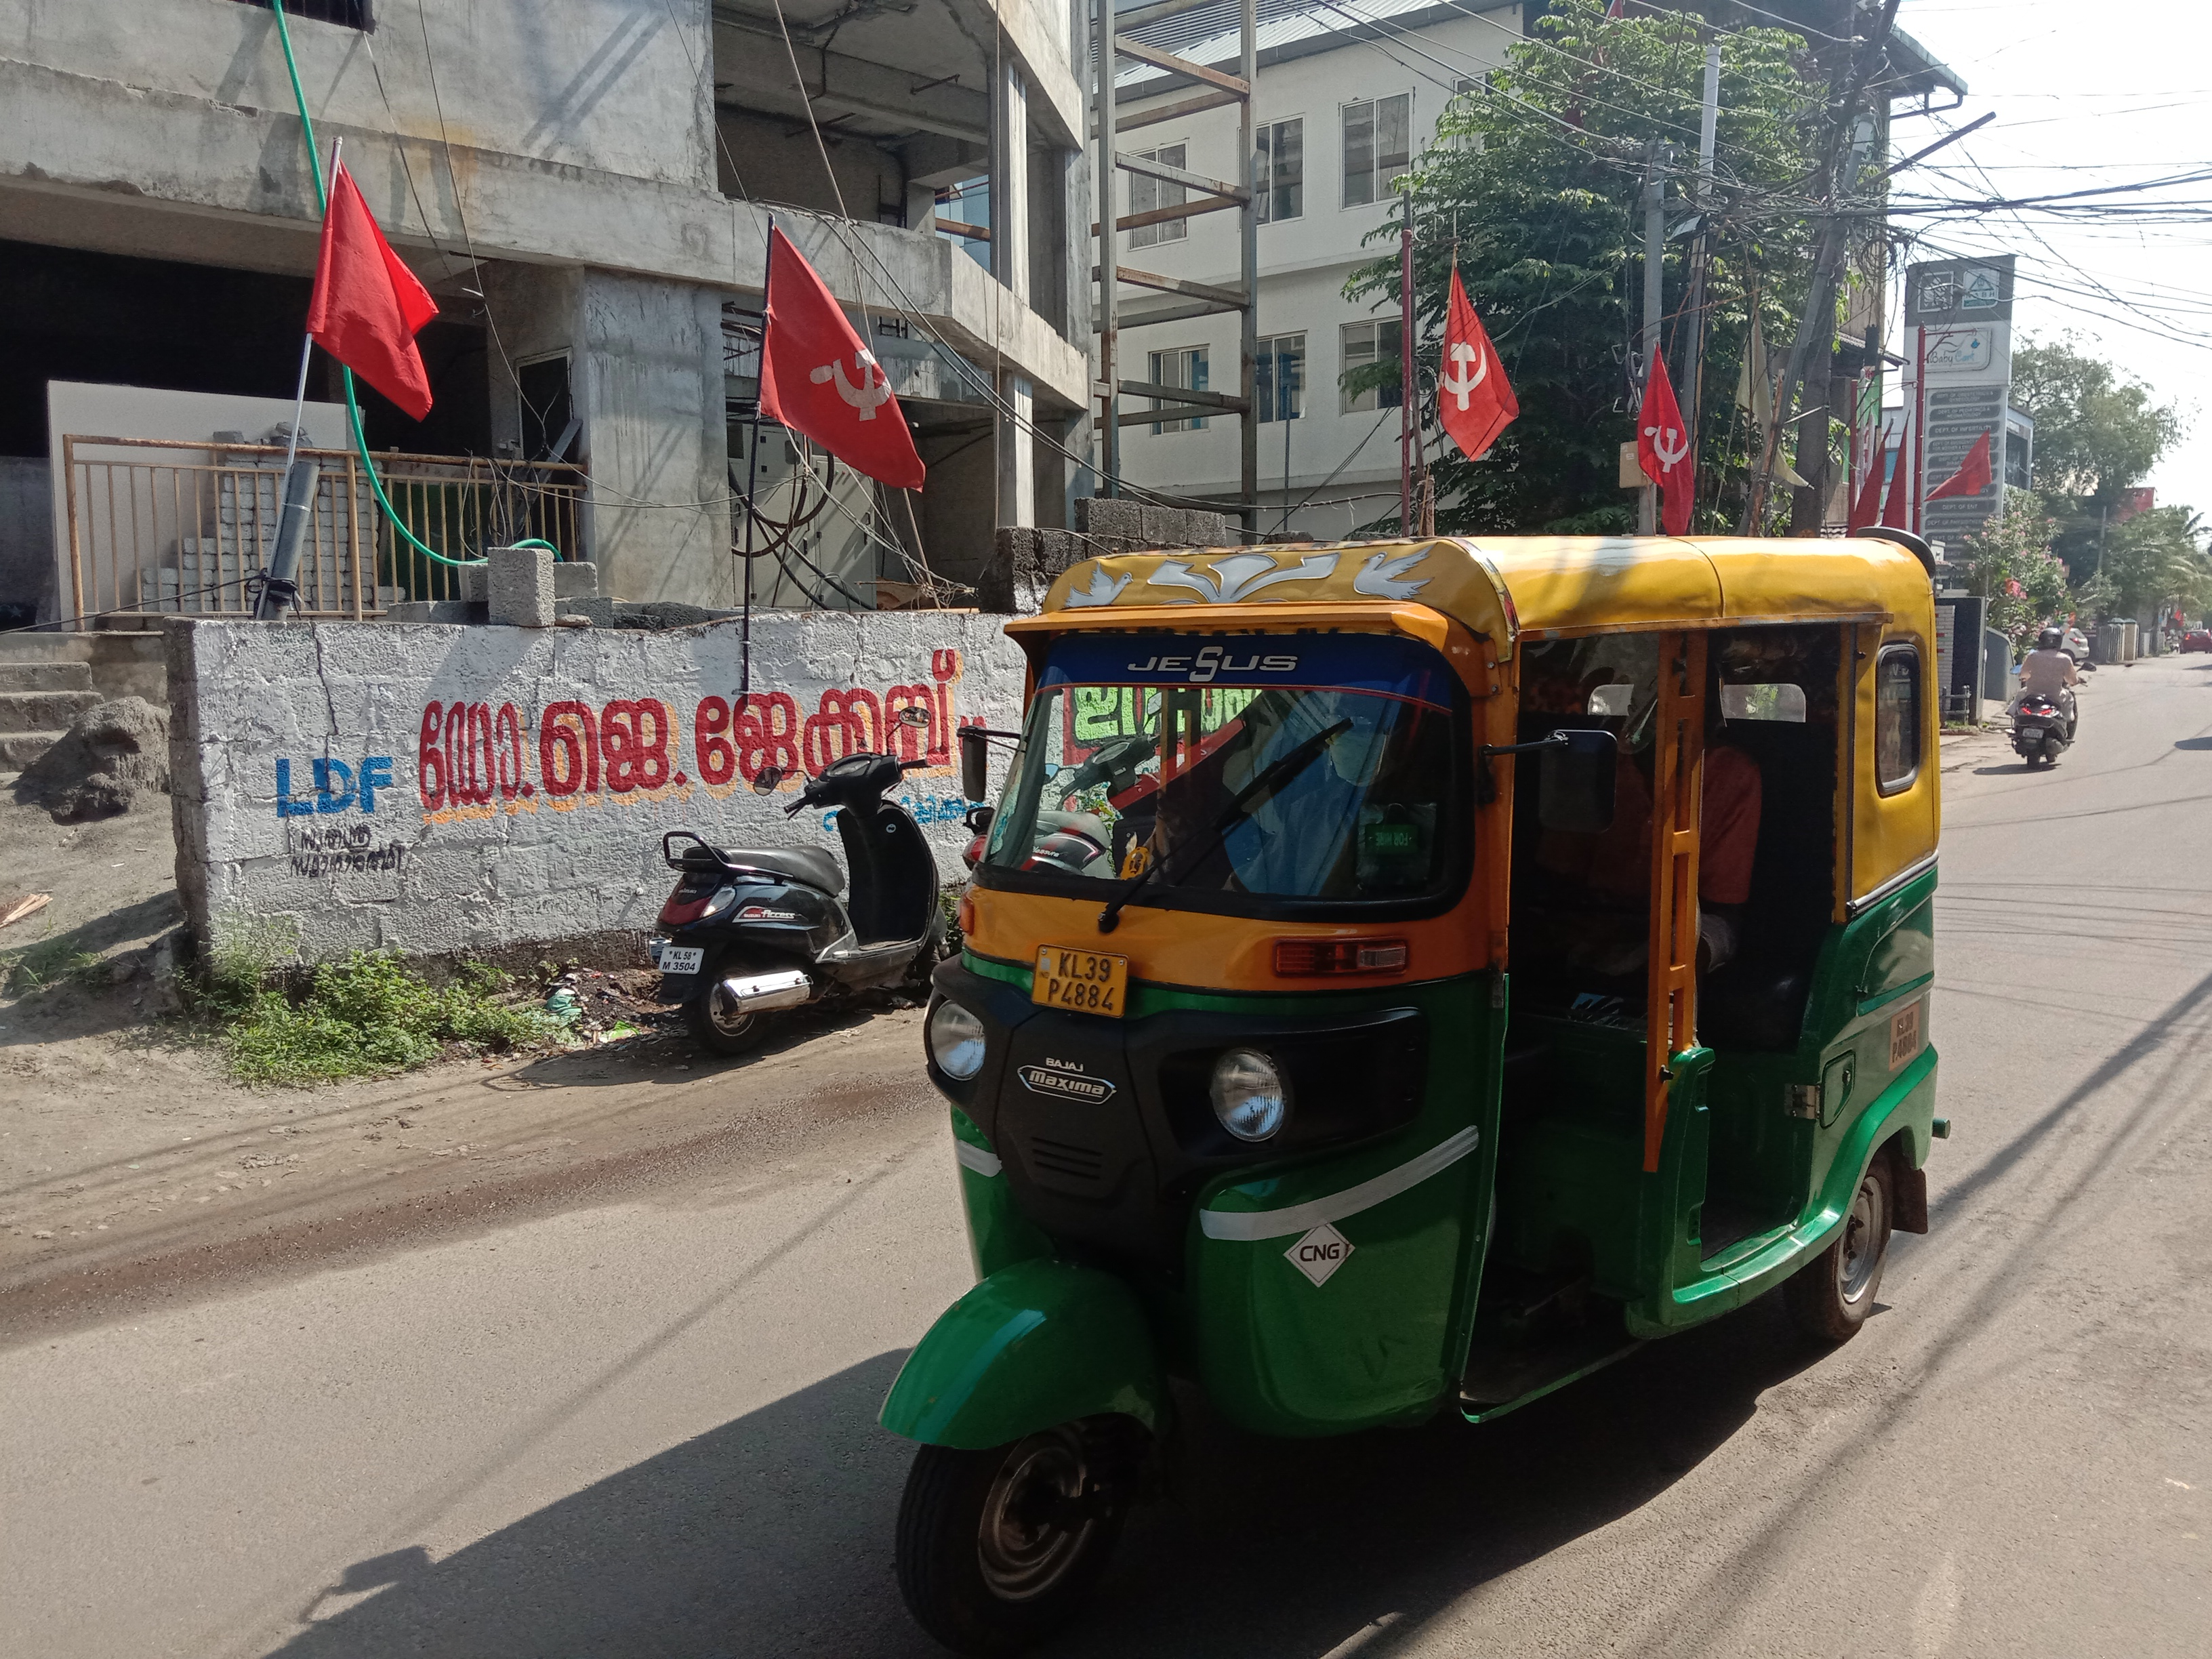auto: (750, 552, 2047, 1642)
plate: (1014, 935, 1155, 1027)
